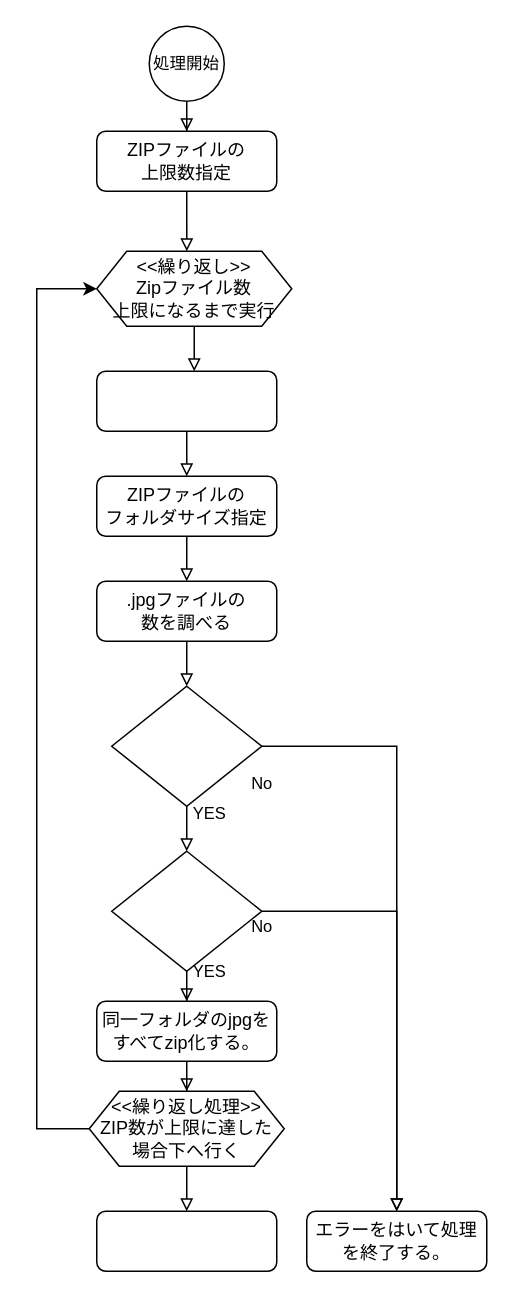
The diagram is 513 pixels wide and 1298 high, and some of its shapes have lost their labels. The box of each missing label's shape, as (x1, y1, x2, y2) in pixels:
jpg数 指定の値より 大きい場合: (110, 685, 262, 806)
ZIPファイル名を 命名規則通り決定: (95, 370, 277, 431)
ファイル数 指定の値未満 場合: (110, 850, 262, 971)
処理を正常終了する: (95, 1210, 277, 1271)
